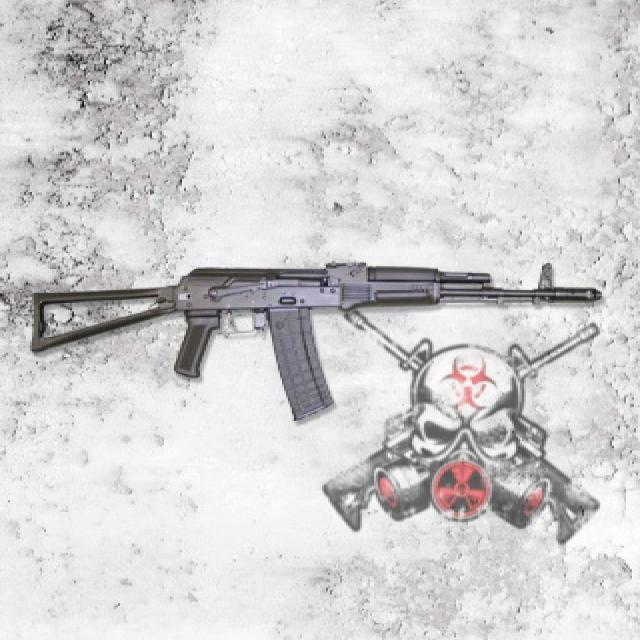weapon: (24, 253, 608, 427)
